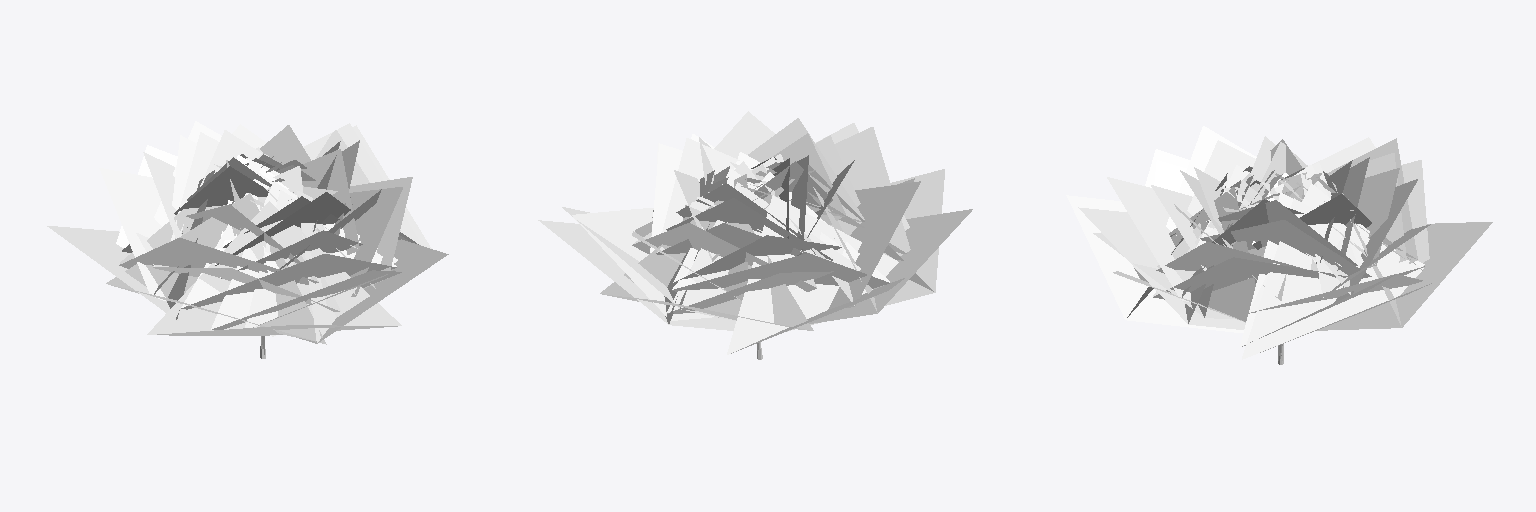
File: Bush_01.obj
3 views of the same model, side by side, from view 1: azimuth 30°, elevation 25°; view 2: azimuth 150°, elevation 25°; view 3: azimuth 270°, elevation 25° (orthographic).
Parts seen in each view (by area): view 1: tree; view 2: tree; view 3: tree.
Boxes of the visible parts, <box> form: tree: <box>47,121,448,358</box>; tree: <box>538,111,972,359</box>; tree: <box>1066,126,1492,364</box>.
Bounding box in the file's own units: 18.25 × 10.99 × 20.43.